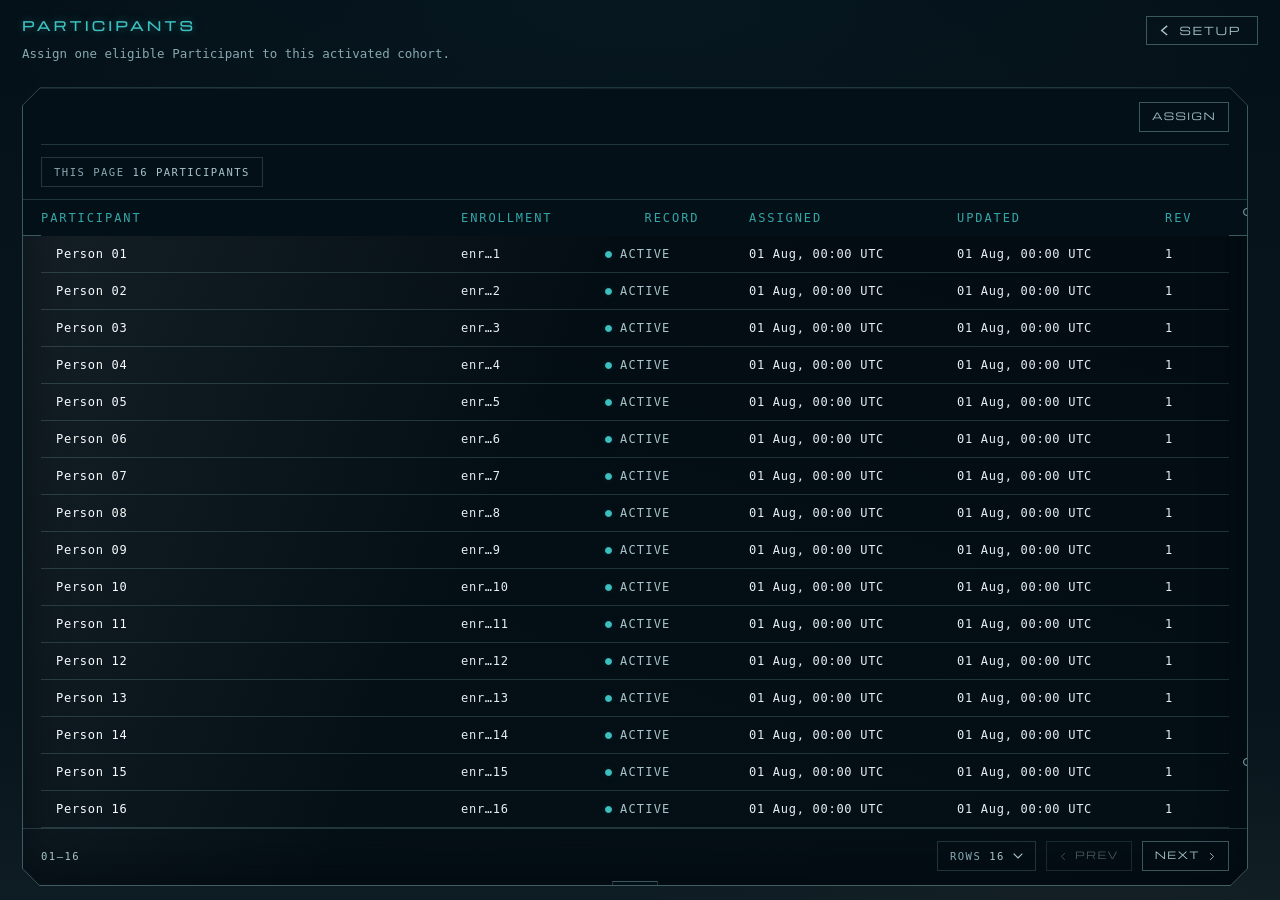
Test: ProductionEnrollmentPage › disables Next and does not reuse the previous cursor while a new Participants page size is pending
The image size is (1280, 900).
Expected: the link "Person 01" is shown, 56,247 -> 128,261
Expected: the button "Next" is enabled, 1142,841 -> 1229,871
Click the button named "Rows16": (986, 856) 938,842 -> 1035,870
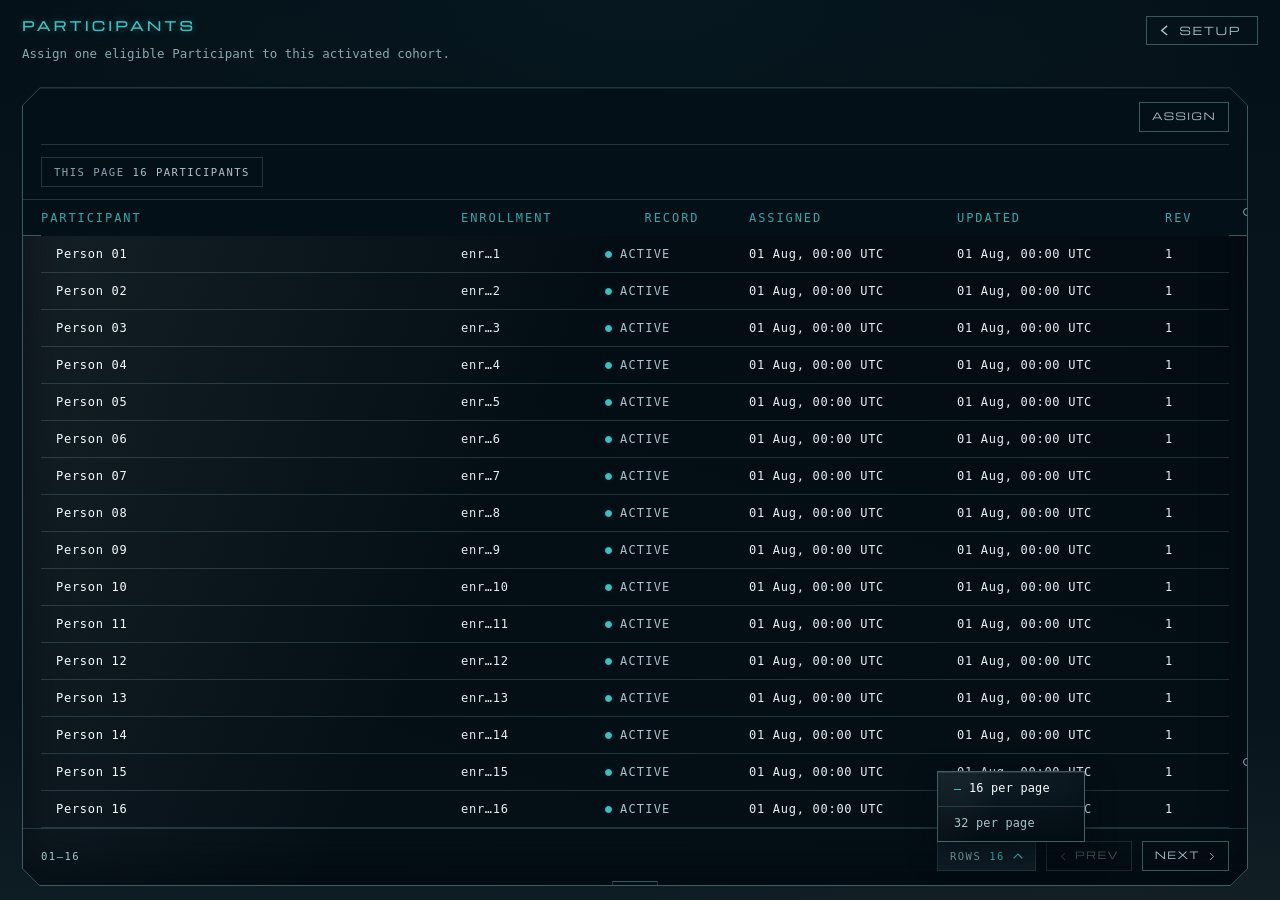
Click the option "32 per page": (994, 824) 954,816 -> 1035,830
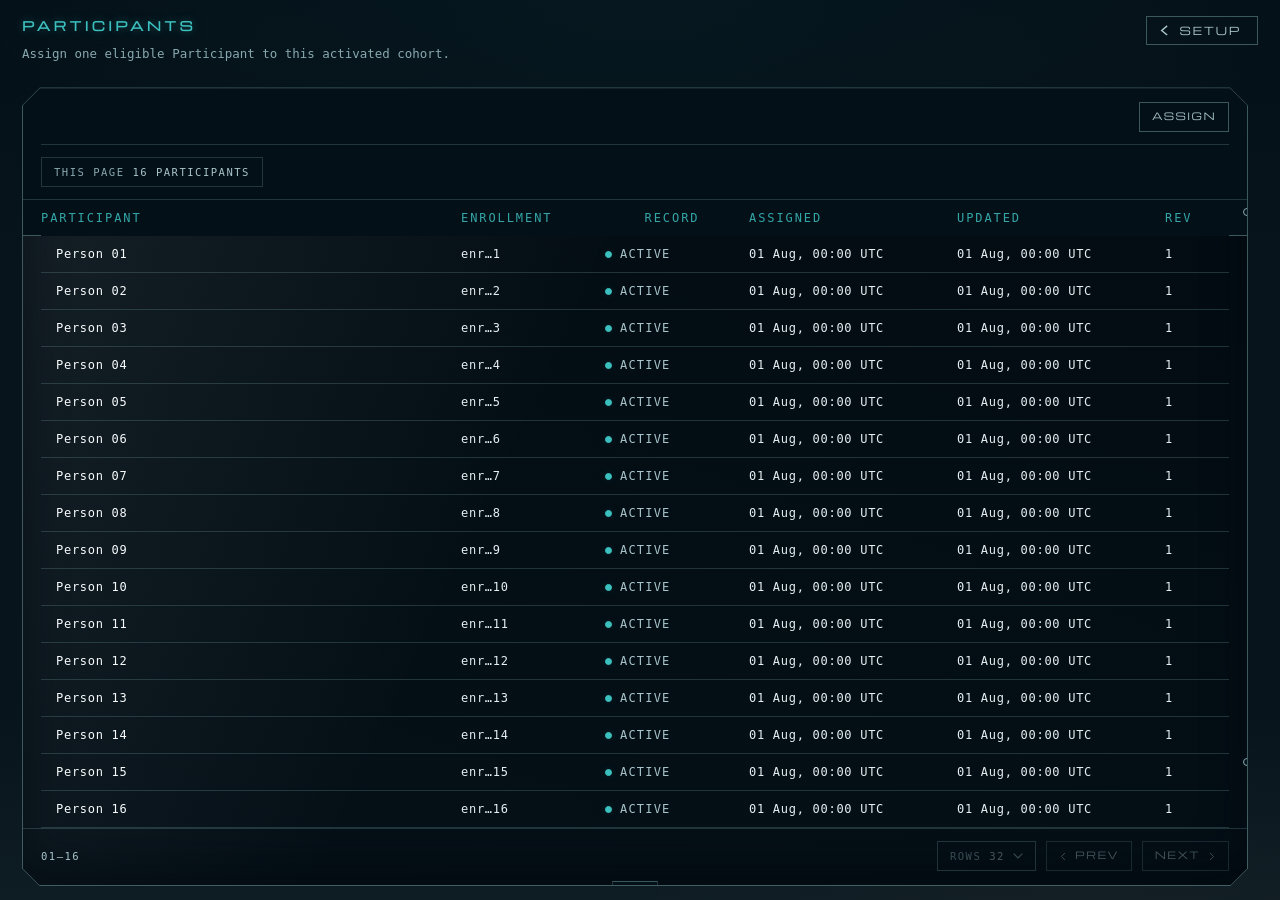
Expected: the button "Next" is disabled
Click the button "Next": (1185, 856) 1142,841 -> 1229,871
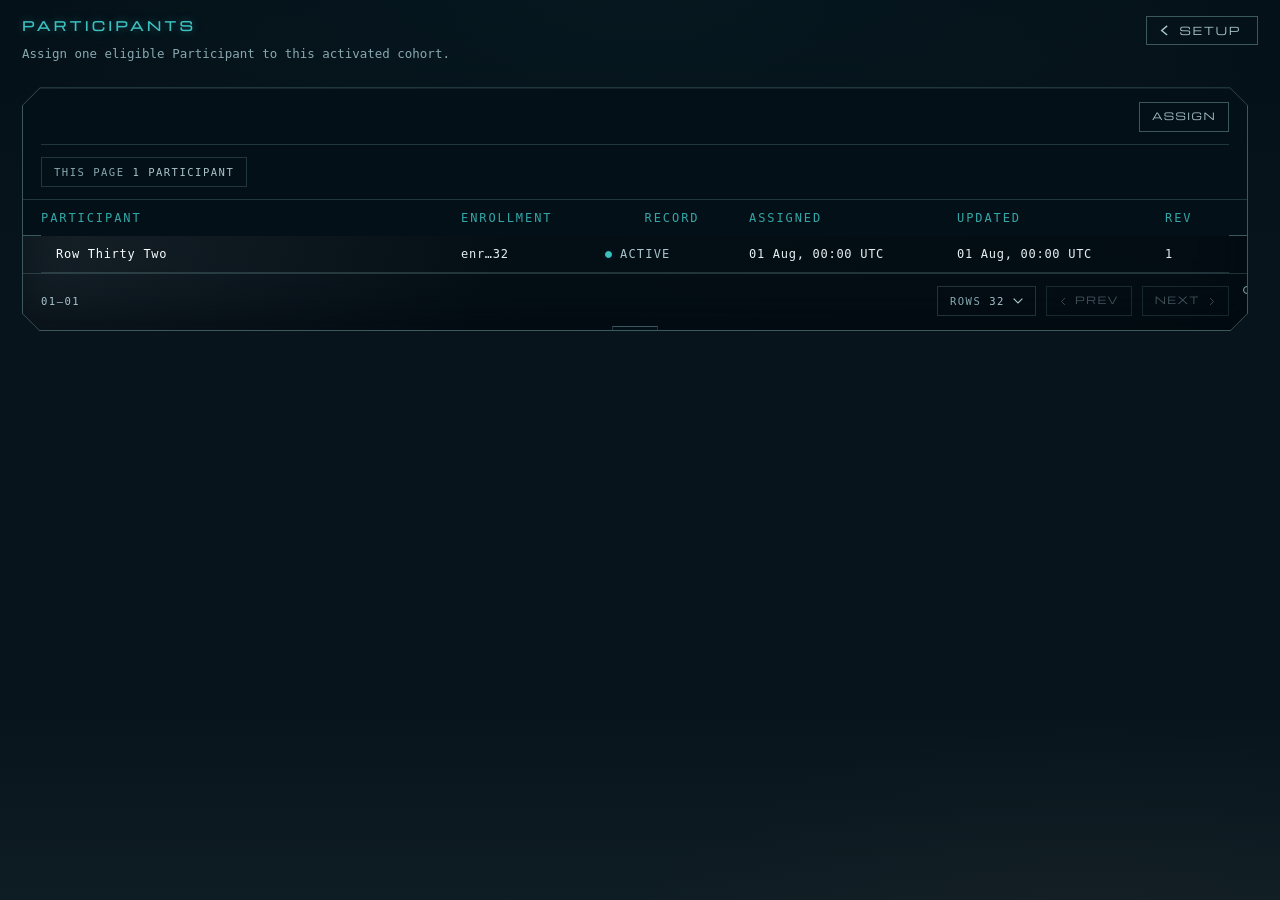
Expected: the link "Row Thirty Two" is shown, 56,247 -> 167,261
